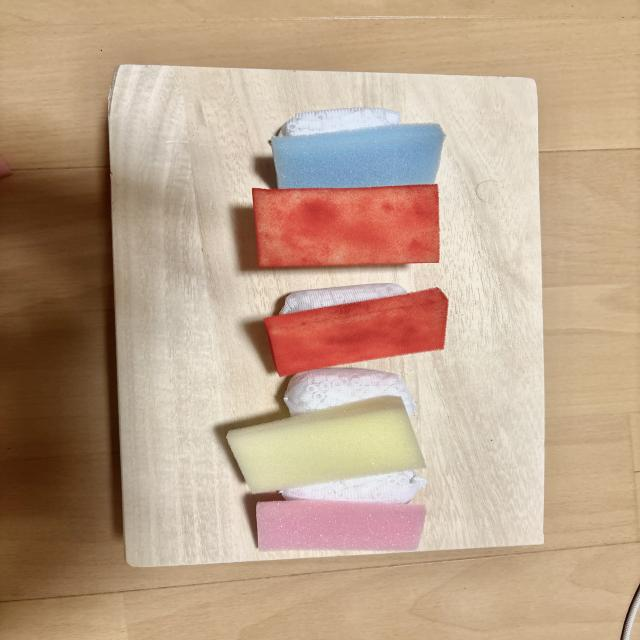NG: (227, 368, 425, 492), (264, 283, 448, 376), (272, 107, 444, 188), (257, 470, 426, 551)
salmon: (253, 184, 440, 267)
